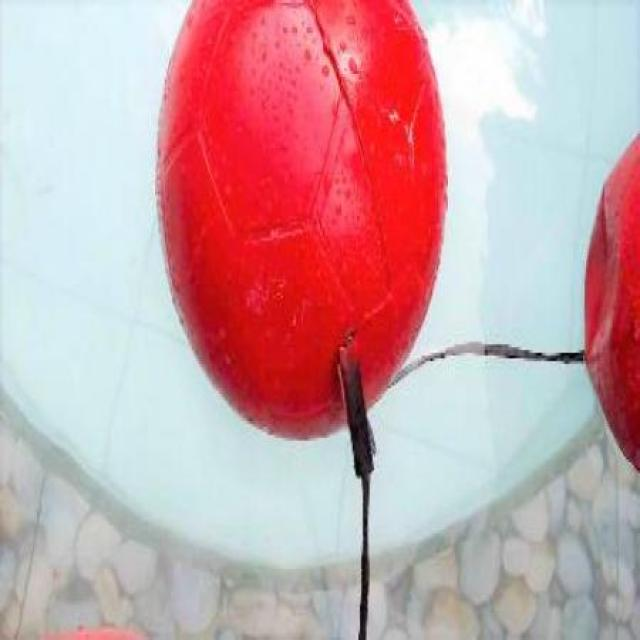buoy: (153, 0, 450, 441), (582, 130, 640, 467)
